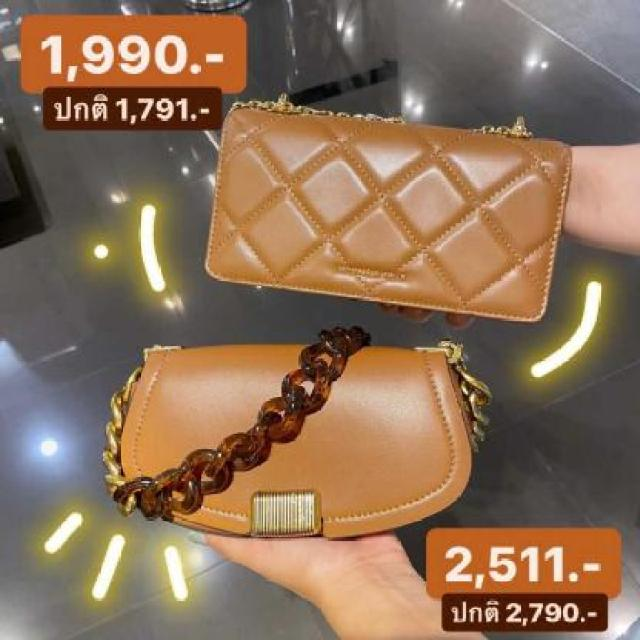Bag: (184, 38, 598, 348), (91, 318, 502, 542)
